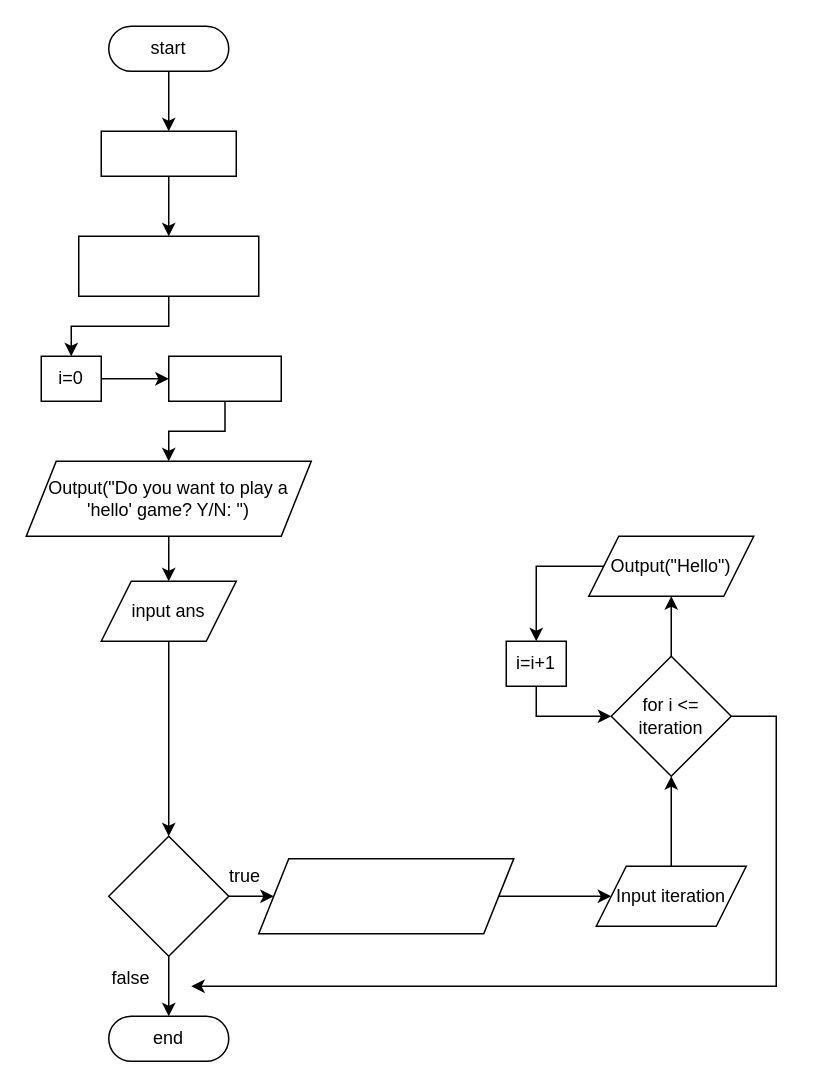
Image size: 815x1088. Some labels were removed from this diagram. The centre of each missing label's shape, as x and y in pixels:
declare int iteration, i: (168,265)
declare str ans: (168,153)
if ans = "Y": (168,895)
iteration=0: (224,378)
Output("How many times should 'hello' be printed?: "): (385,895)
